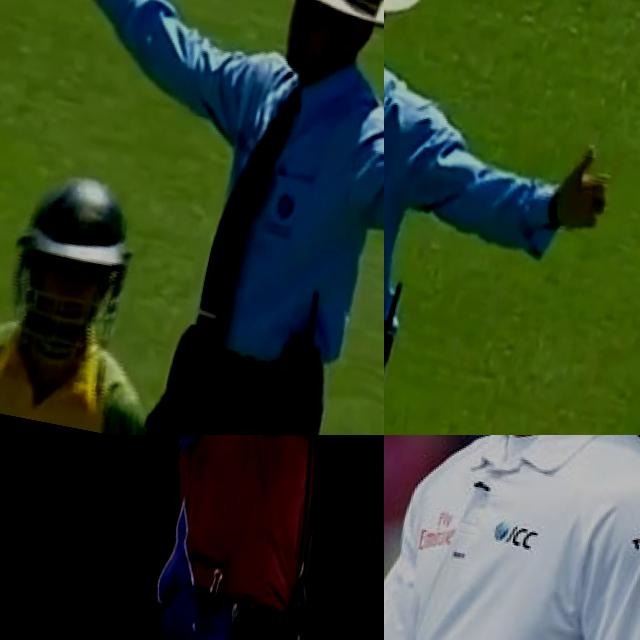No_Action: (384, 435, 640, 640)
No_Ball: (384, 0, 640, 435)
Six: (106, 435, 384, 640)
Wide: (0, 0, 384, 283)
